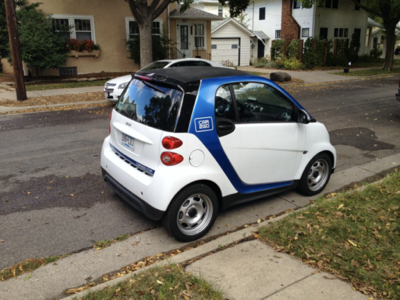licence: (119, 131, 136, 154)
